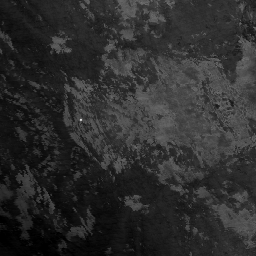Target: (78, 117, 83, 122)
